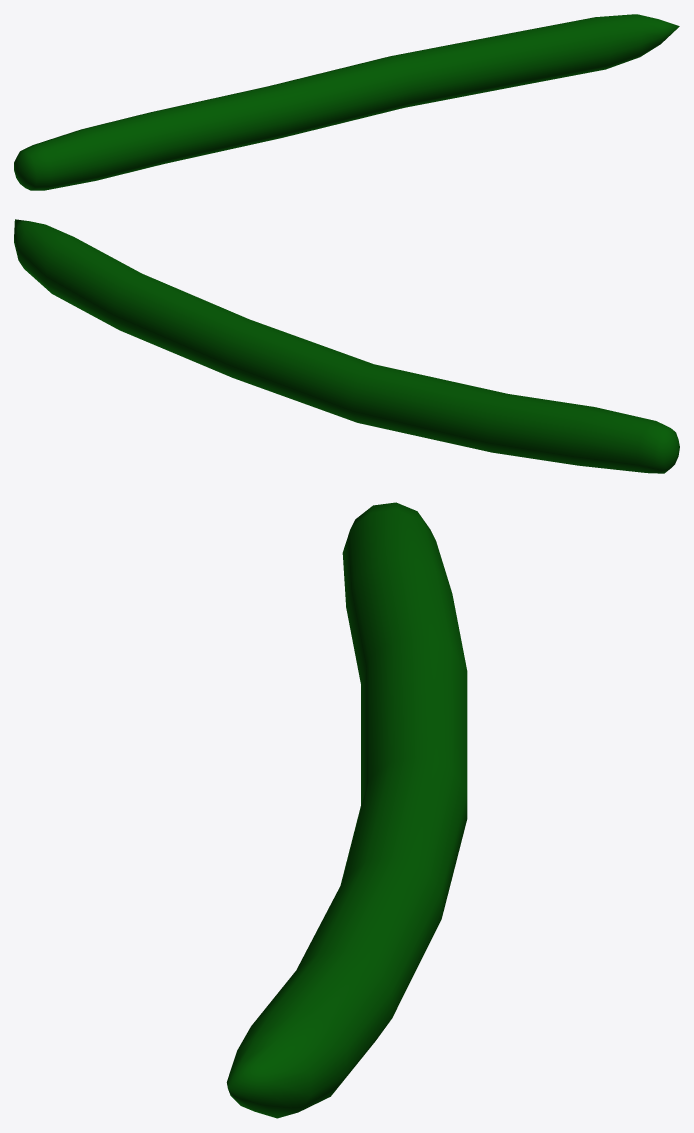
Rendered from meat09.FBX.
The picture shows the model from 3 angles, top to bottom: view 1: azimuth 30°, elevation 25°; view 2: azimuth 150°, elevation 25°; view 3: azimuth 270°, elevation 25°; orthographic projection. The views are drawn at different scales.
Visible parts, largest first — view 1: SM_meat09_0; view 2: SM_meat09_0; view 3: SM_meat09_0.
Boxes of the visible parts, x1,y1,x2,y2 form: SM_meat09_0: (14, 14, 679, 190); SM_meat09_0: (14, 219, 679, 473); SM_meat09_0: (226, 502, 467, 1118).
Size of the model in its own units: 61.01 by 10.2 by 6.29.
